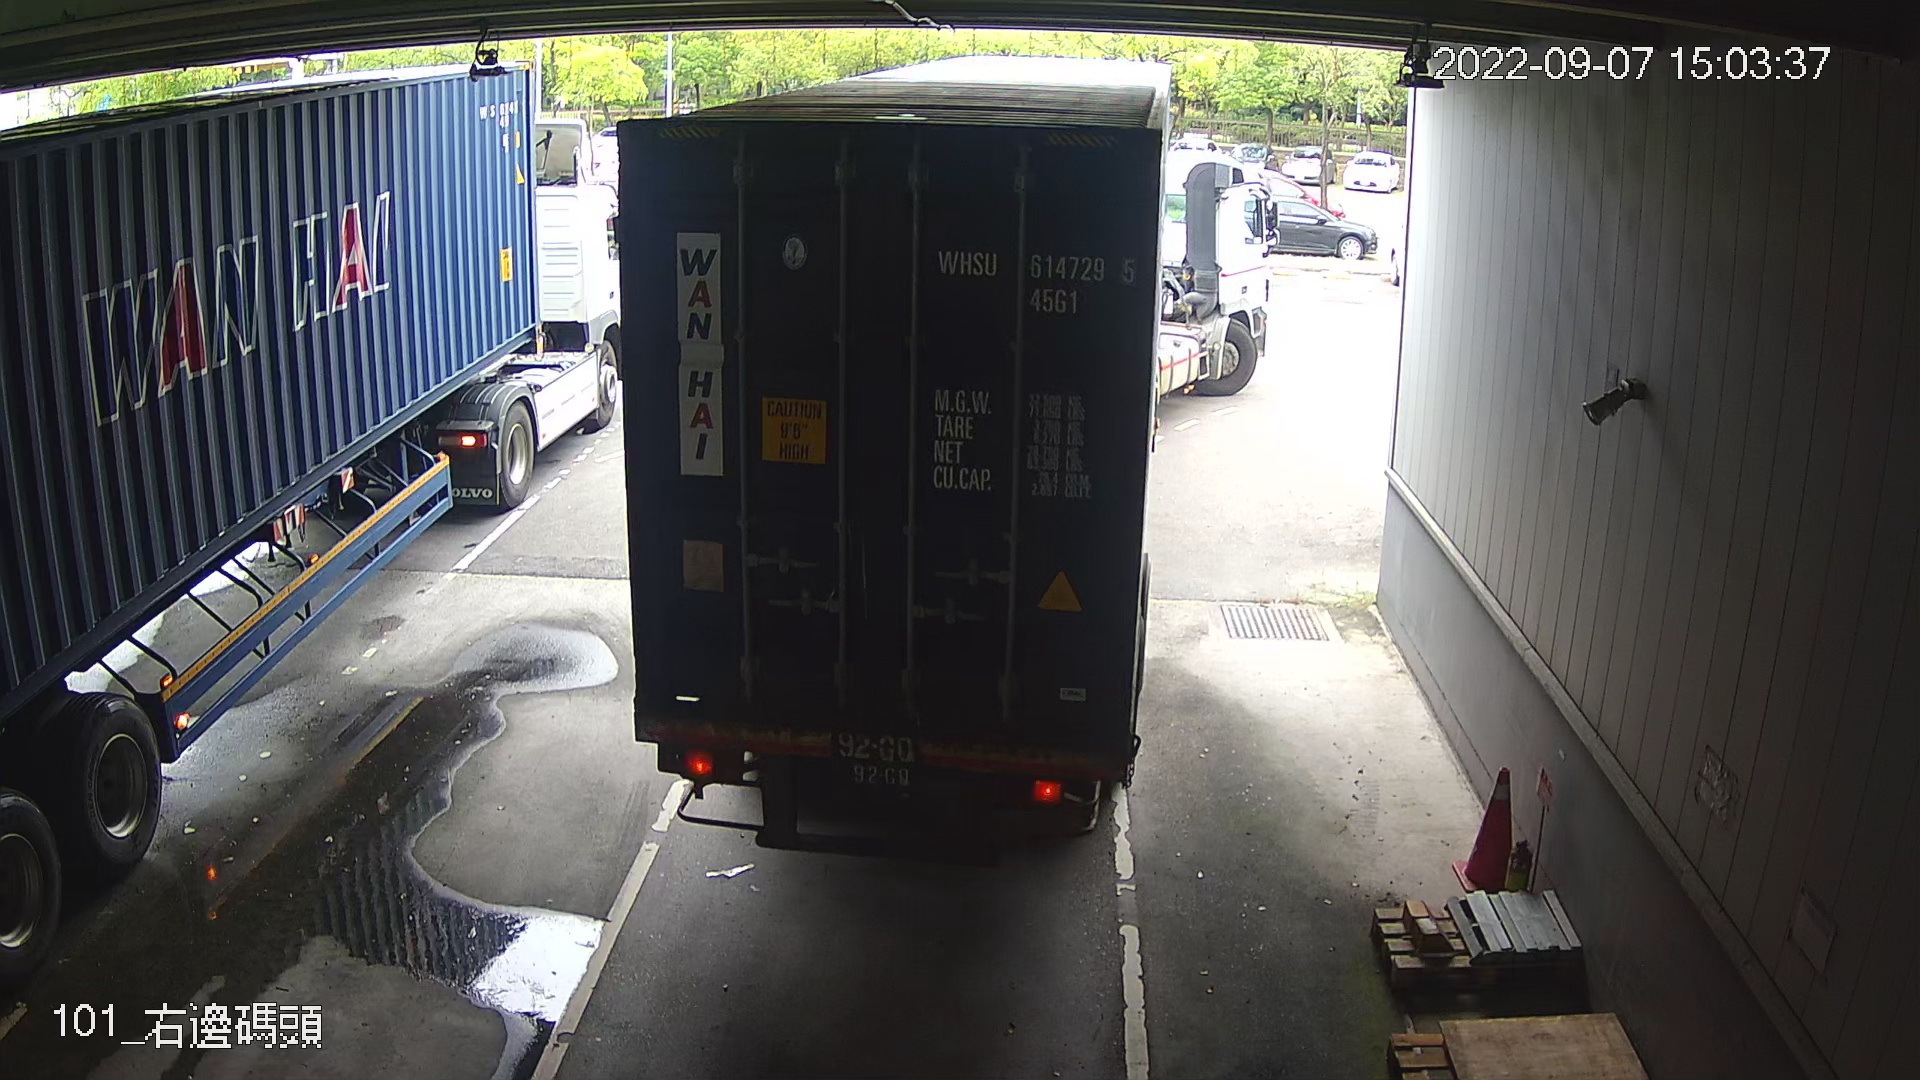container: (923, 229, 1145, 322)
